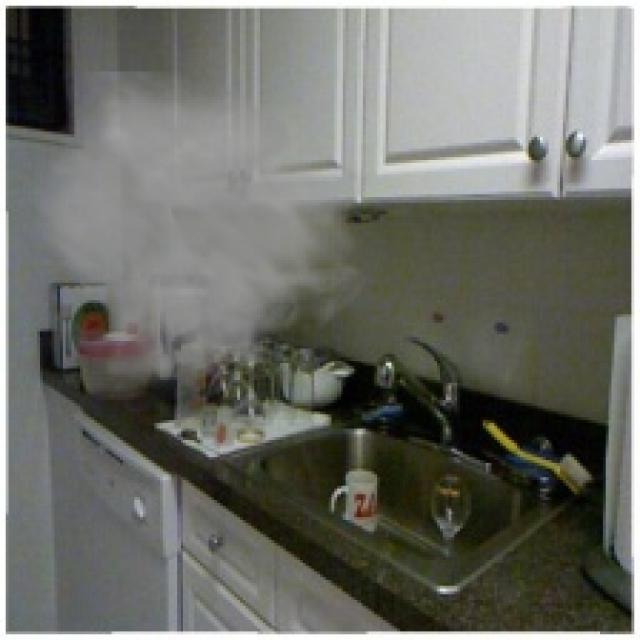smoke: (23, 72, 371, 414)
